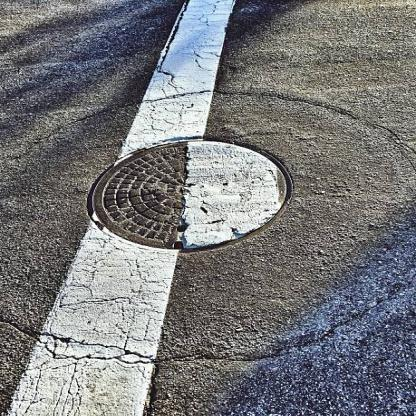manholes: (77, 124, 324, 272)
